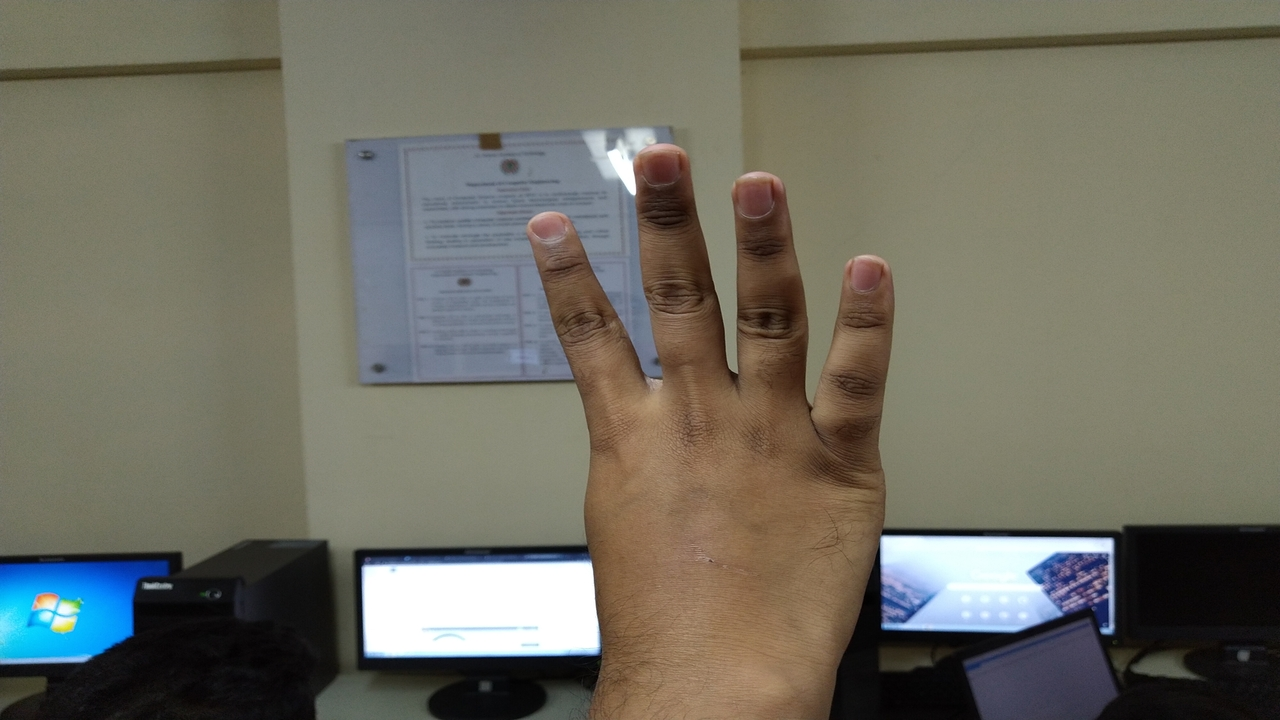fingertip: (624, 134, 696, 206), (728, 166, 794, 224), (518, 202, 586, 258), (840, 248, 900, 308)
